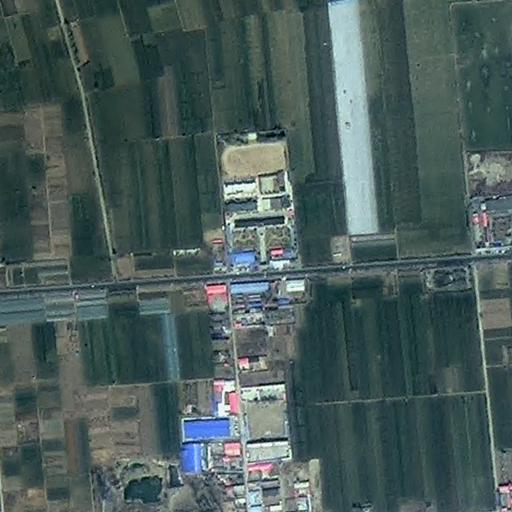school: (220, 135, 295, 269)
